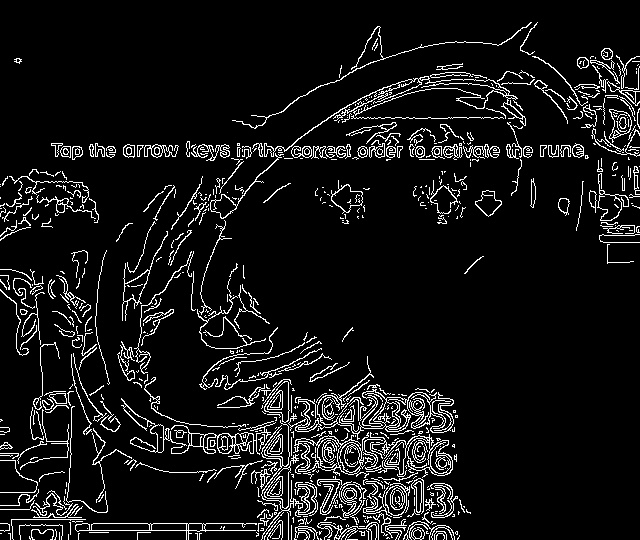down: (470, 184, 509, 225)
left: (324, 180, 370, 217)
right: (203, 188, 245, 229)
up: (424, 178, 463, 221)
